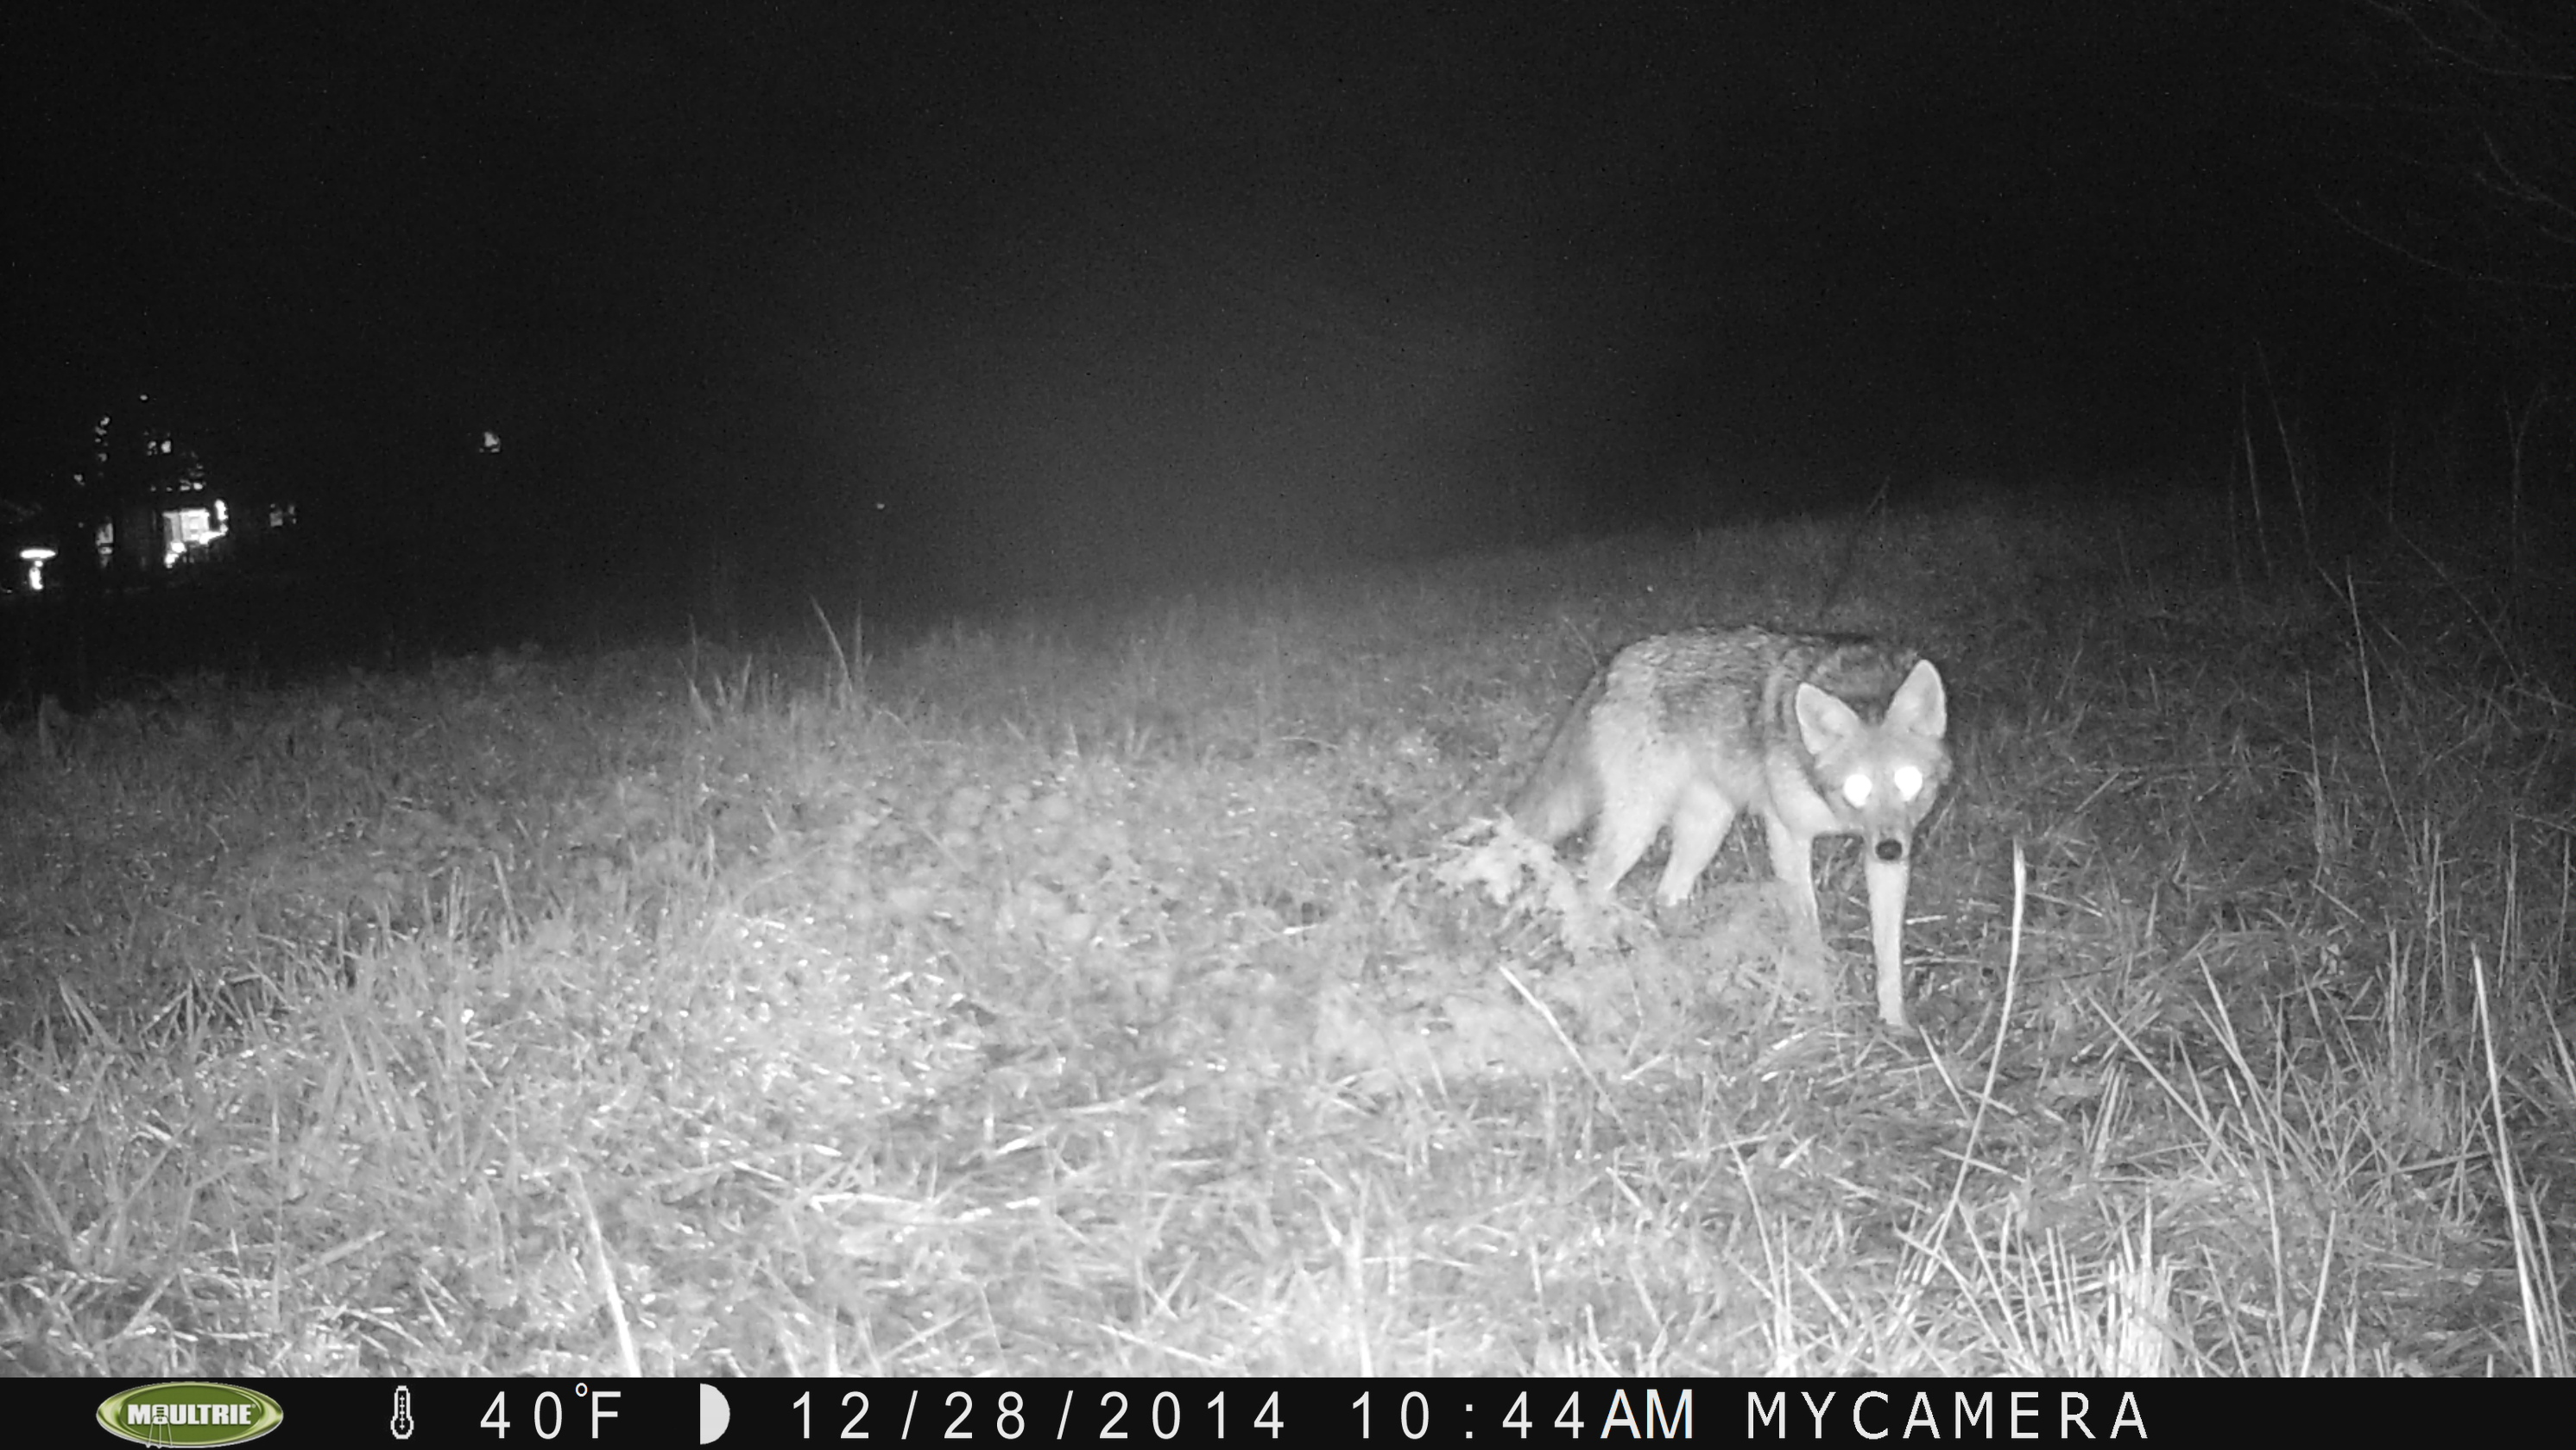coyote: (1504, 578, 2038, 1057)
